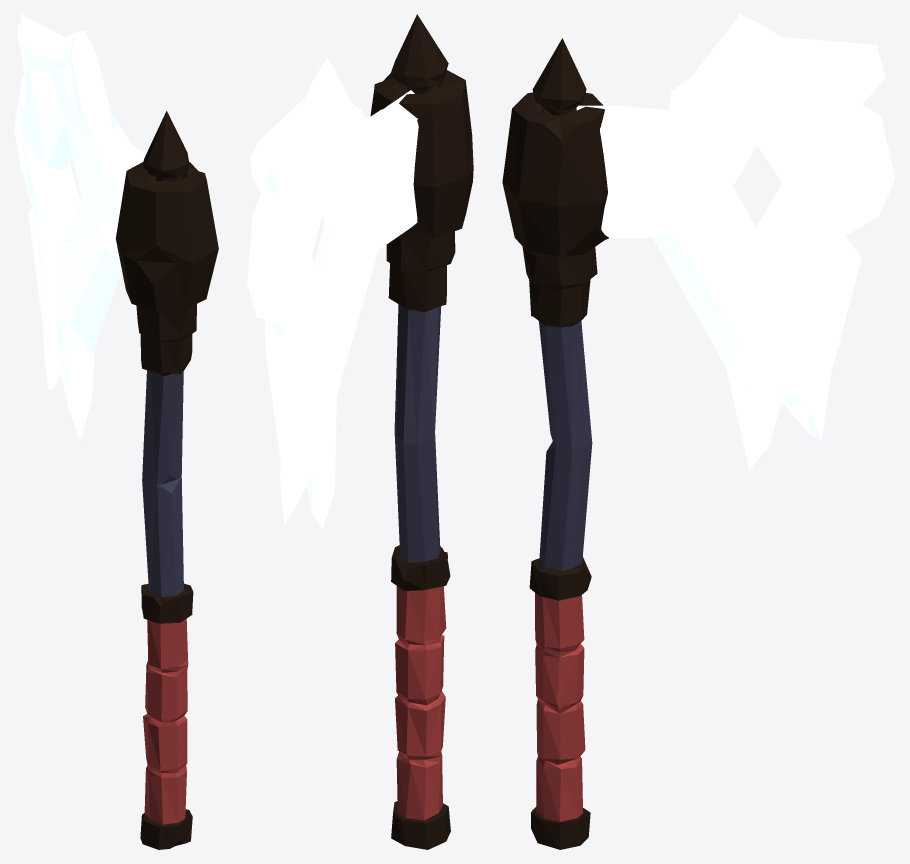
The model's file is SFFA_Weapon_Axe_Runical_004.fbx.
3 renders of one model, left to right at view 1: azimuth 30°, elevation 25°; view 2: azimuth 150°, elevation 25°; view 3: azimuth 270°, elevation 25°, orthographic. The views are drawn at different scales.
Visible parts, largest first — view 1: SFFA_Weapon_Axe_Runical_004; view 2: SFFA_Weapon_Axe_Runical_004; view 3: SFFA_Weapon_Axe_Runical_004.
Part boxes in pixels (box(x1,y1,x2,y2)): SFFA_Weapon_Axe_Runical_004: box(14, 14, 218, 849); SFFA_Weapon_Axe_Runical_004: box(247, 14, 473, 849); SFFA_Weapon_Axe_Runical_004: box(502, 14, 895, 849).
Size of the model in its own units: 6.92 by 56.76 by 24.44.
